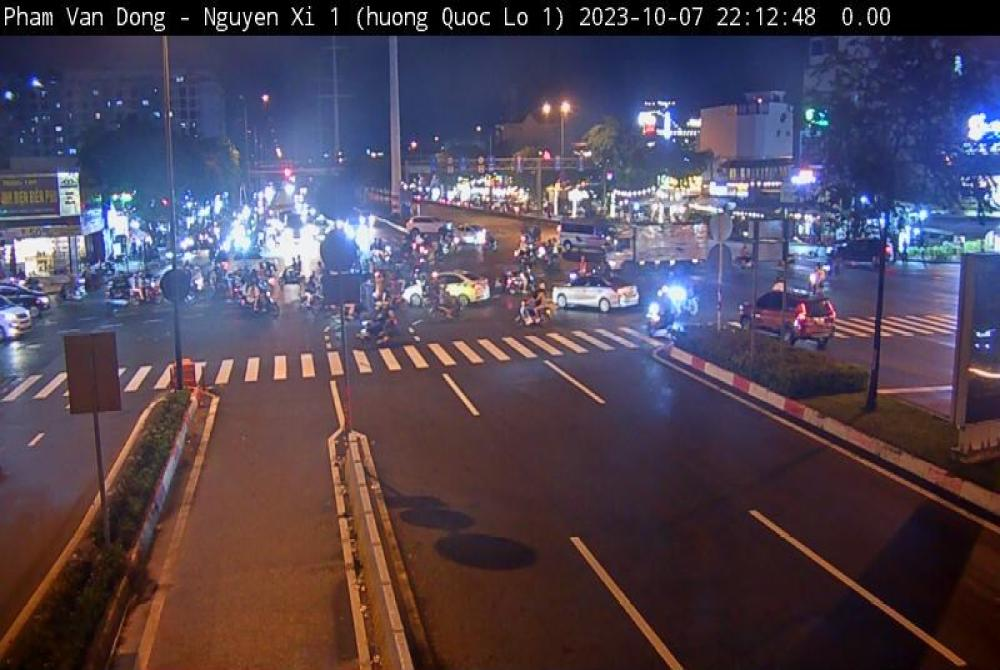car: (732, 273, 840, 343), (396, 263, 488, 316), (552, 271, 638, 320), (550, 210, 615, 265)
